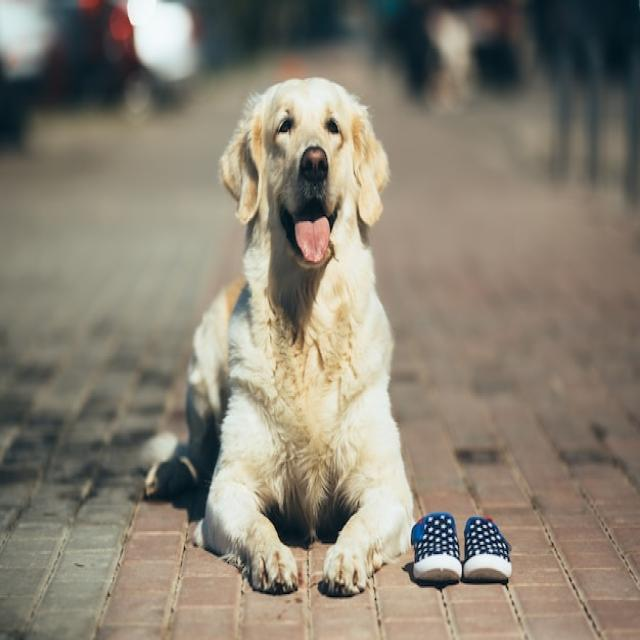Dog: (140, 75, 418, 595)
